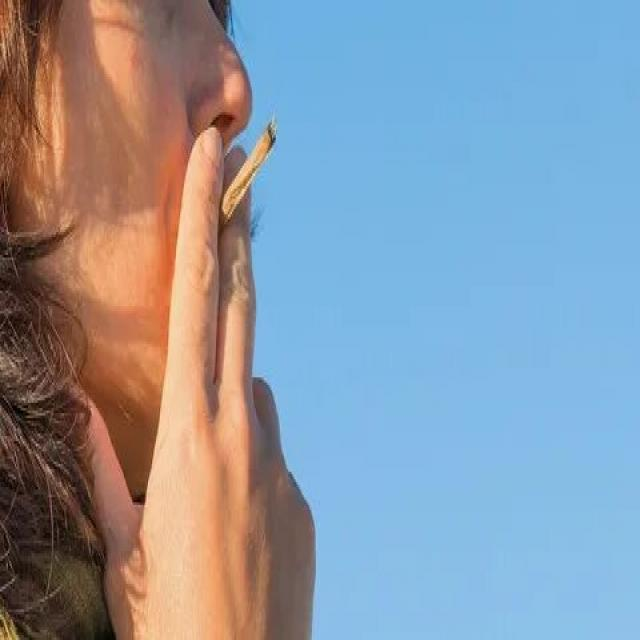smoke: (210, 112, 286, 235)
